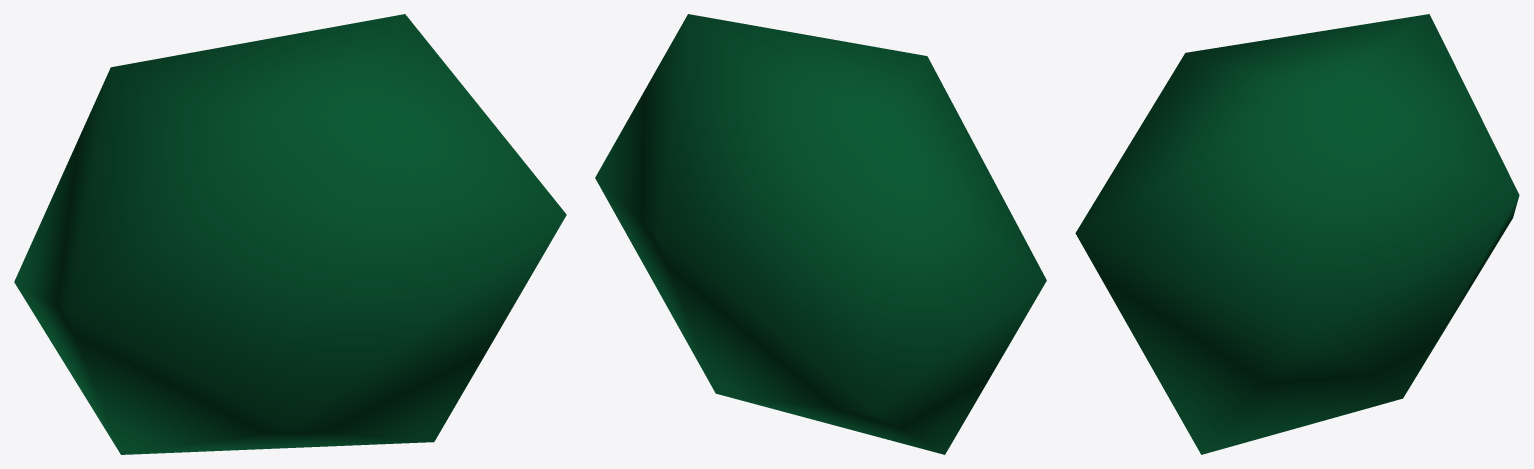
The model's file is Bush3.fbx.
The picture shows the model from 3 angles, left to right: view 1: azimuth 30°, elevation 25°; view 2: azimuth 150°, elevation 25°; view 3: azimuth 270°, elevation 25°; orthographic projection. The views are drawn at different scales.
Parts seen in each view (by area): view 1: Bush3; view 2: Bush3; view 3: Bush3.
Part boxes in pixels (x1,y1,x2,y2): Bush3: (14, 14, 566, 454); Bush3: (595, 14, 1046, 454); Bush3: (1075, 14, 1519, 454).
Bounding box in the file's own units: 37.7 × 30.25 × 32.15.
